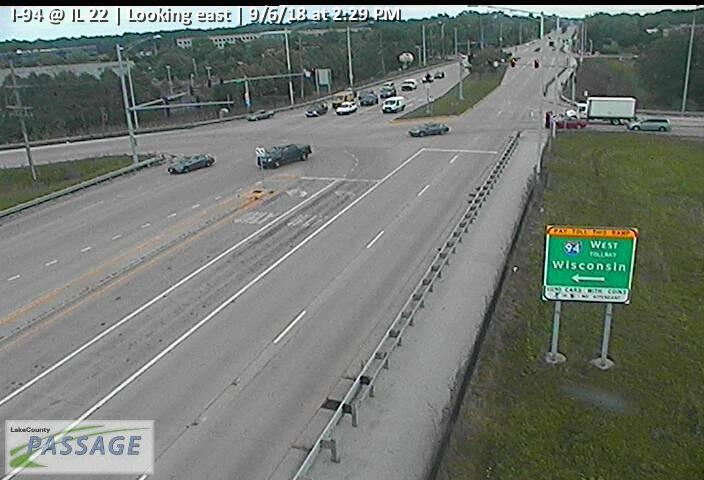Bus: (330, 89, 354, 108)
SUV: (629, 117, 671, 133), (383, 96, 405, 112)
Sedan: (167, 152, 215, 174), (409, 123, 449, 137), (305, 103, 328, 117), (337, 101, 358, 115), (245, 110, 273, 120), (360, 93, 378, 105), (402, 78, 417, 90)
Truck: (563, 94, 636, 125), (257, 142, 312, 170)
